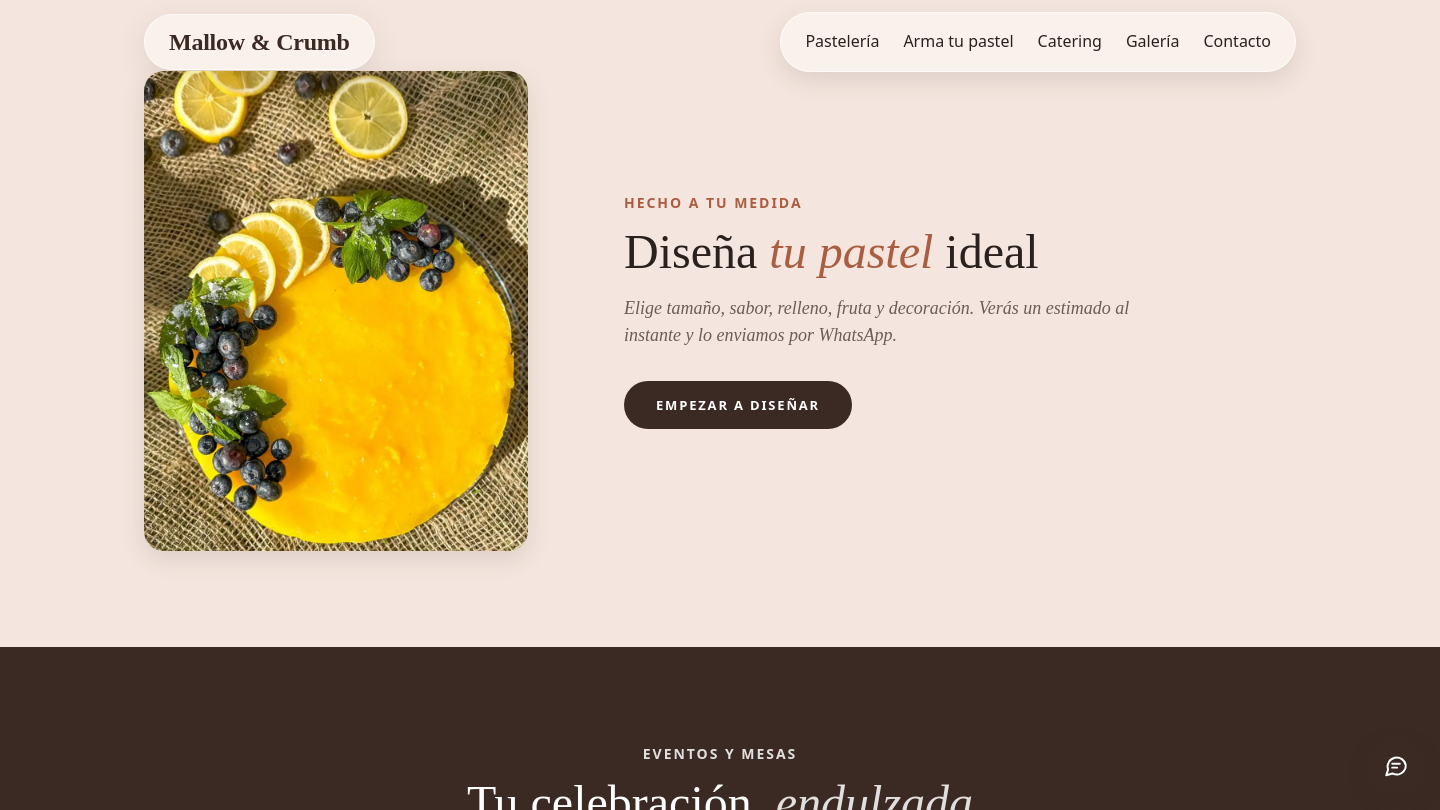
Test case: App › AC-13: 'Solicitar este pastel' lleva el pastel armado al formulario, como tipo pastel y editable
(page scrolled)
Click the button "Empezar a diseñar".
click(738, 405)  # box [624,381,852,429]
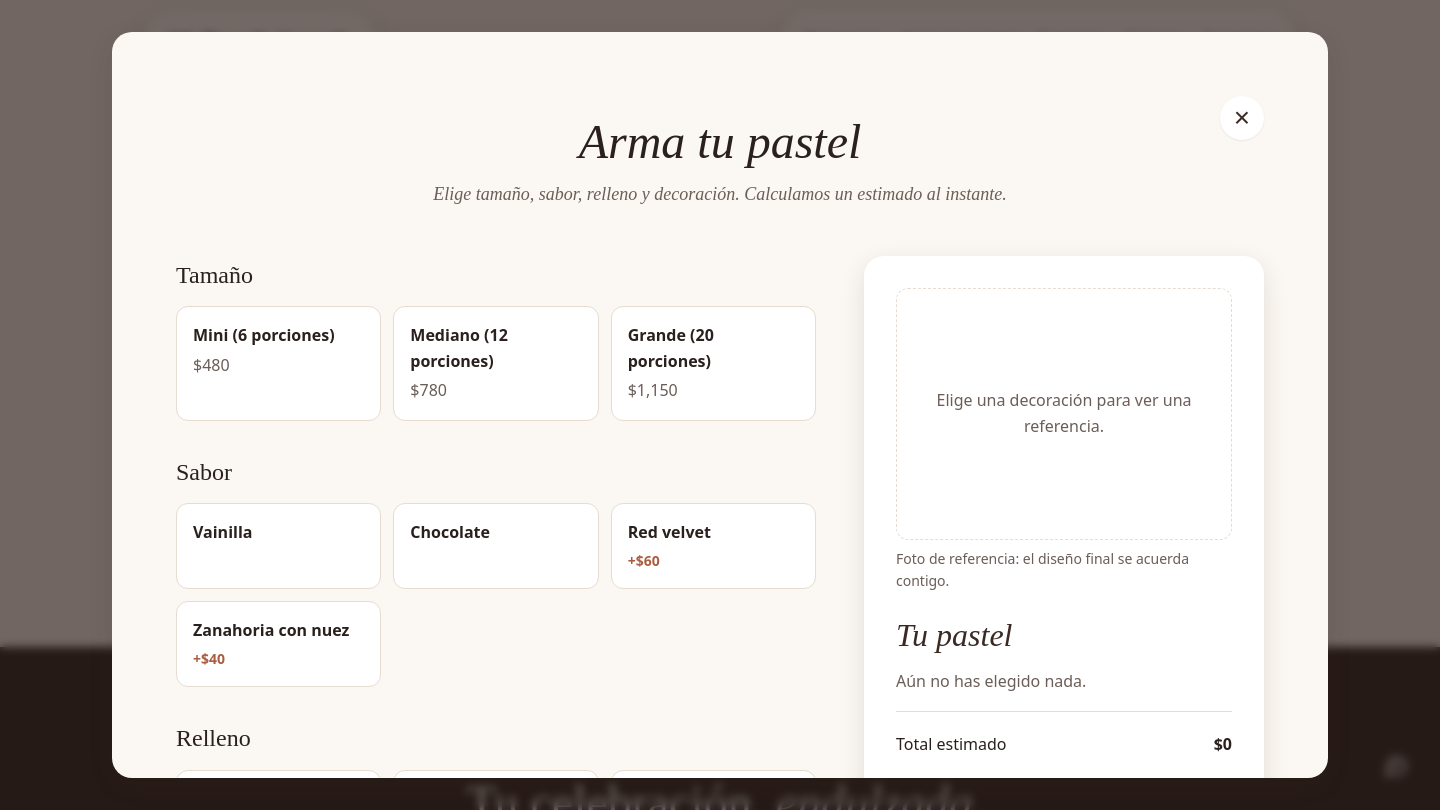
Click the radio button labelled "Mediano (12 porciones) $780".
click(496, 364)  # box [393,306,599,421]
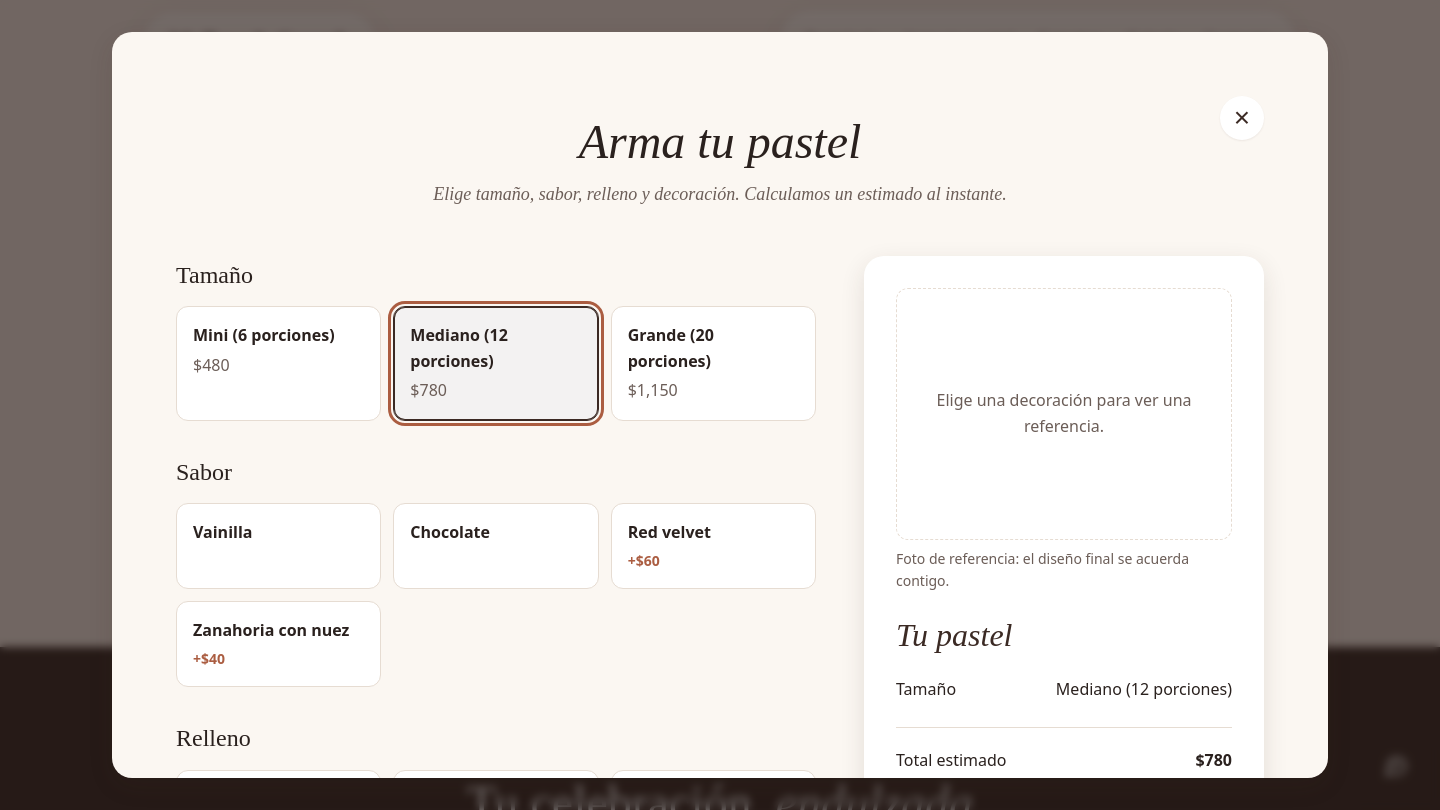
Click the radio button labelled "Red velvet +$60".
click(713, 546)  # box [611,503,816,589]
(page scrolled)
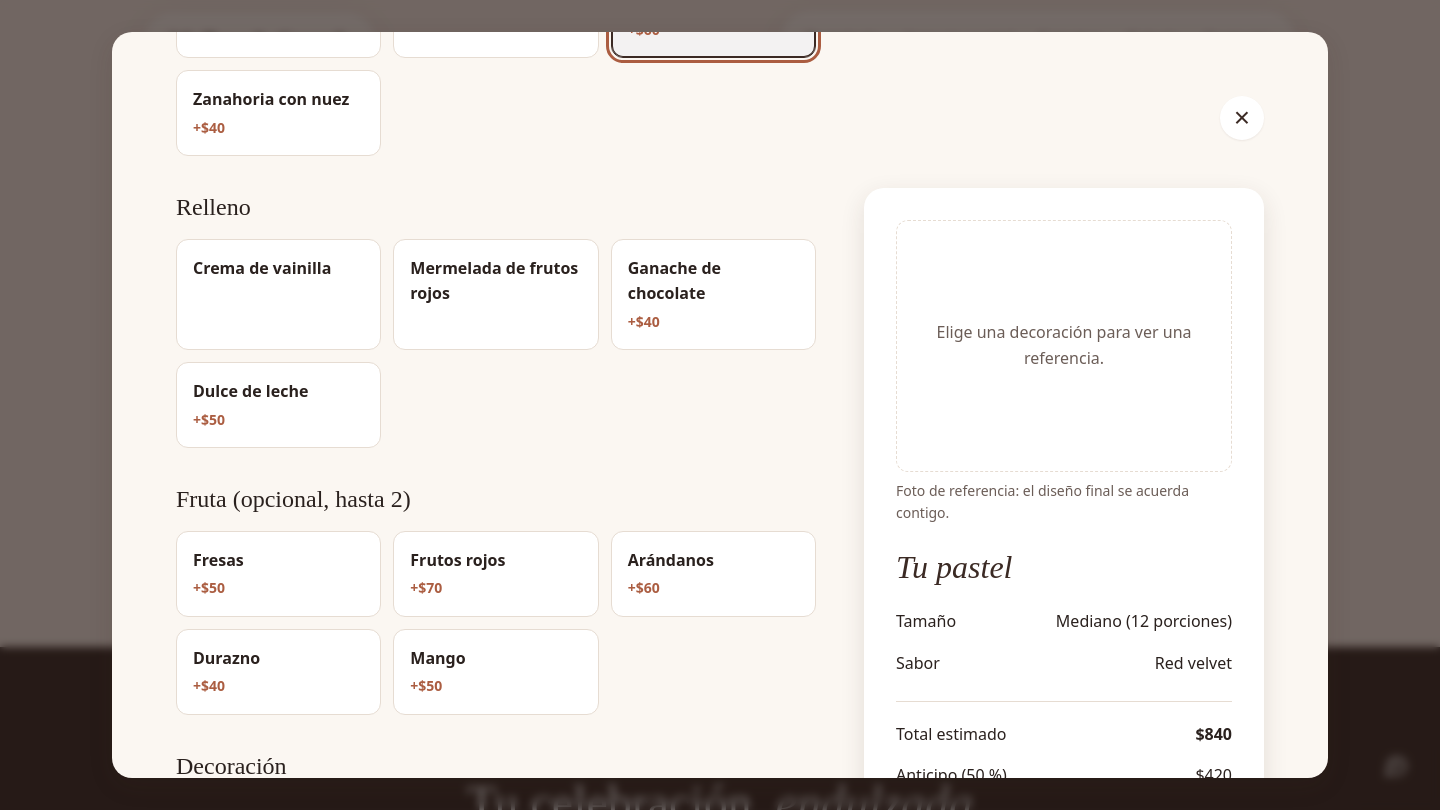
Click the radio button labelled "Dulce de leche +$50".
click(279, 405)  # box [176,362,381,448]
(page scrolled)
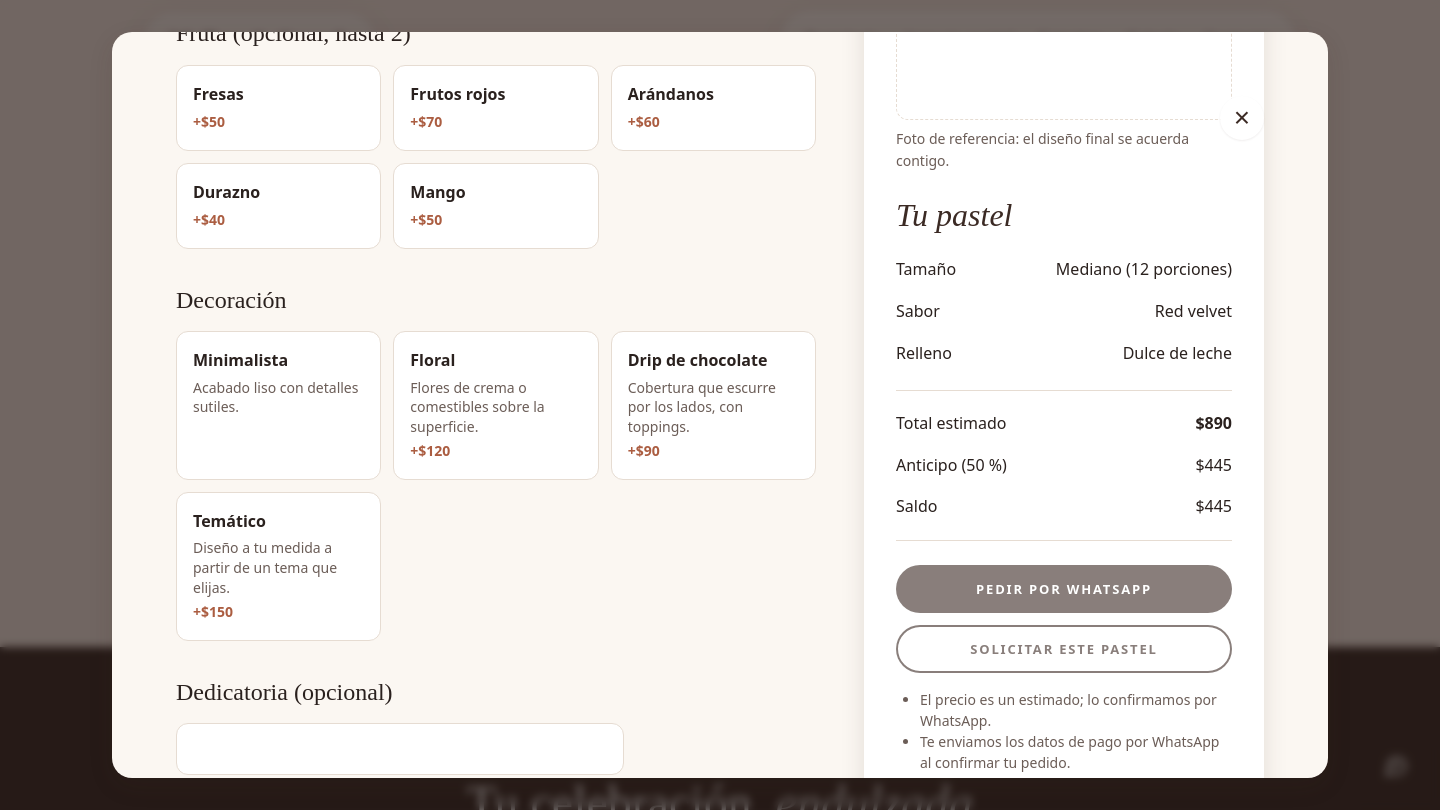
Click the radio button labelled "Floral".
click(496, 405)  # box [393,331,599,480]
(page scrolled)
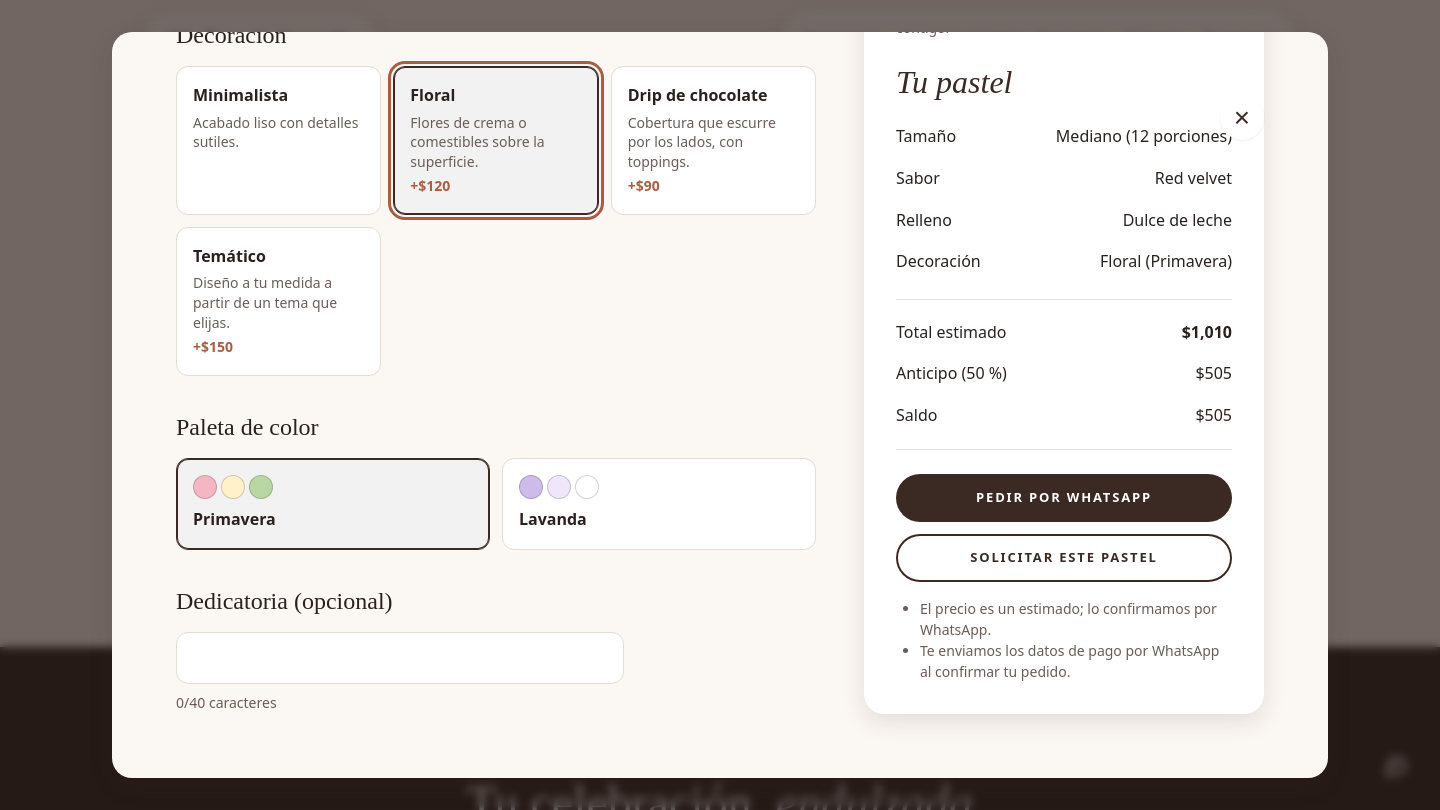
Click the button "Solicitar este pastel".
click(1064, 558)  # box [896,534,1232,582]
(page scrolled)
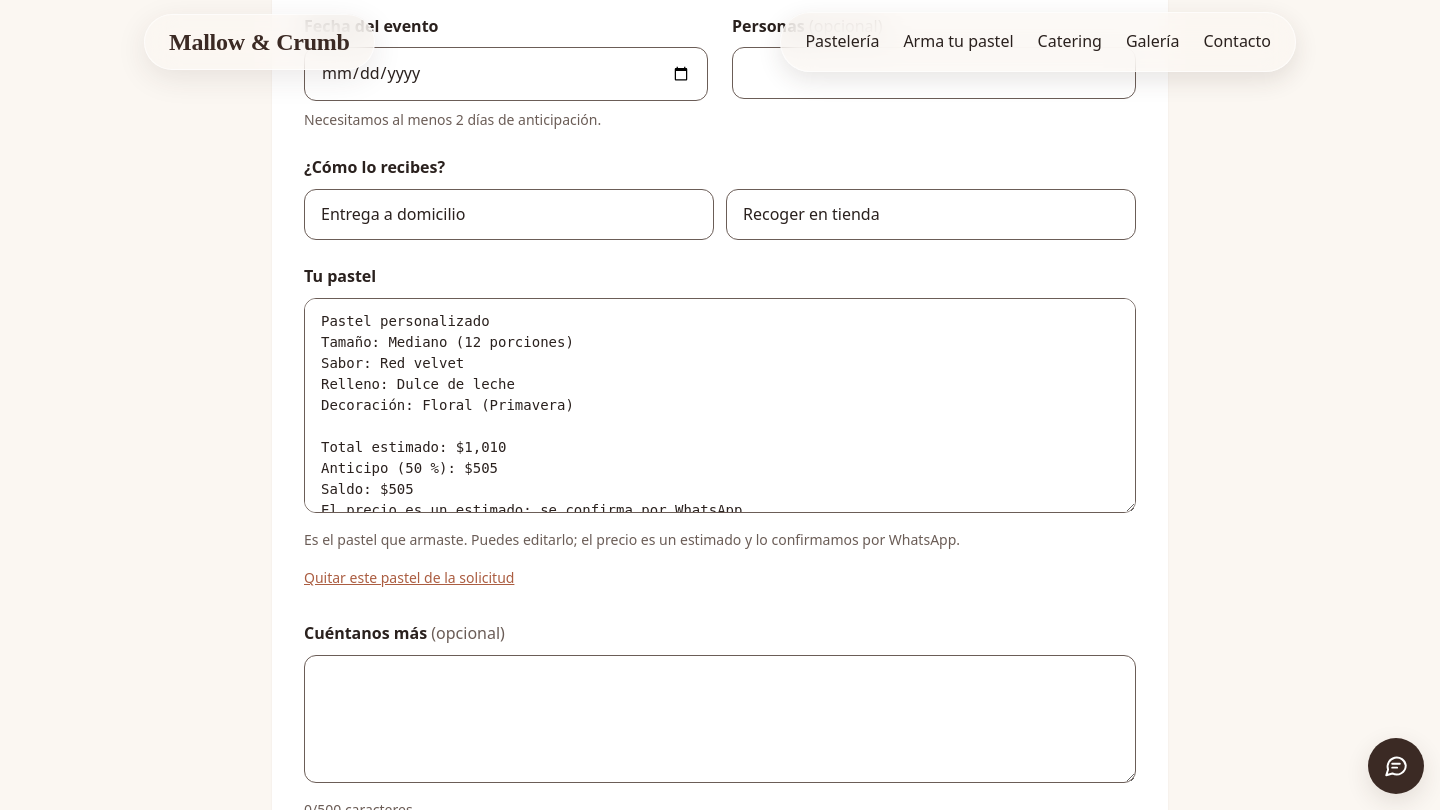
Expected: the dialog is gone
